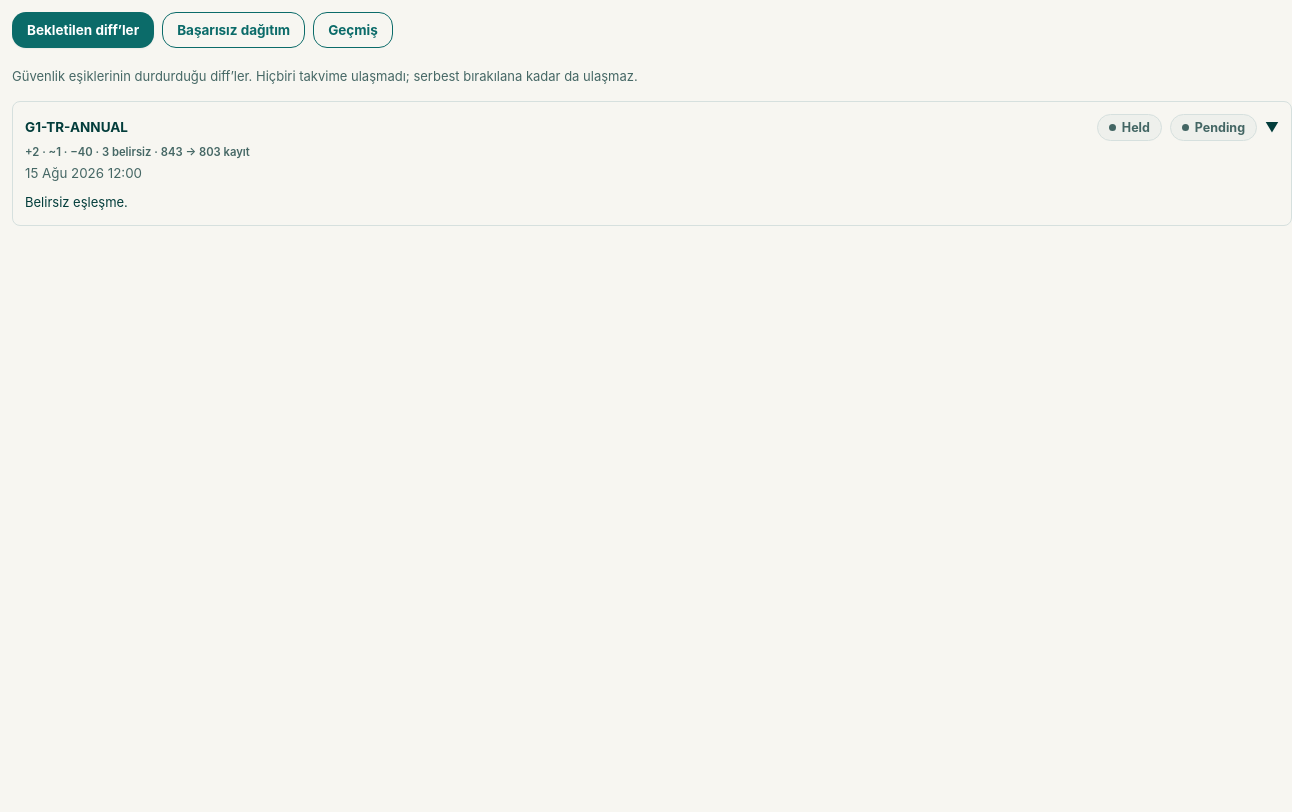
Test: DiffQueues › offers discard even on an ambiguity hold that cannot be released
The image size is (1292, 812).
Click the text "G1-TR-ANNUAL": (76, 127) [25,119,128,135]
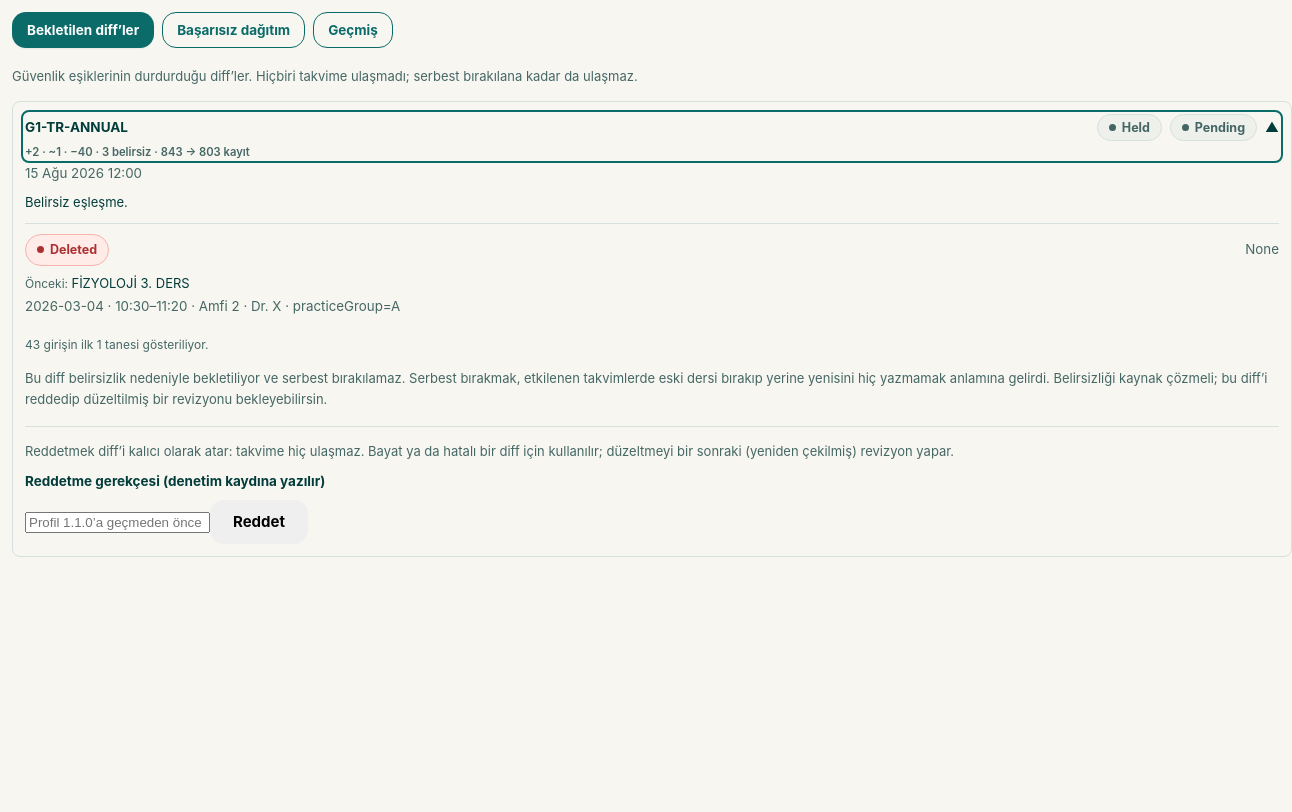
expect the button "Reddet" is shown: met, box [210,500,308,544]
